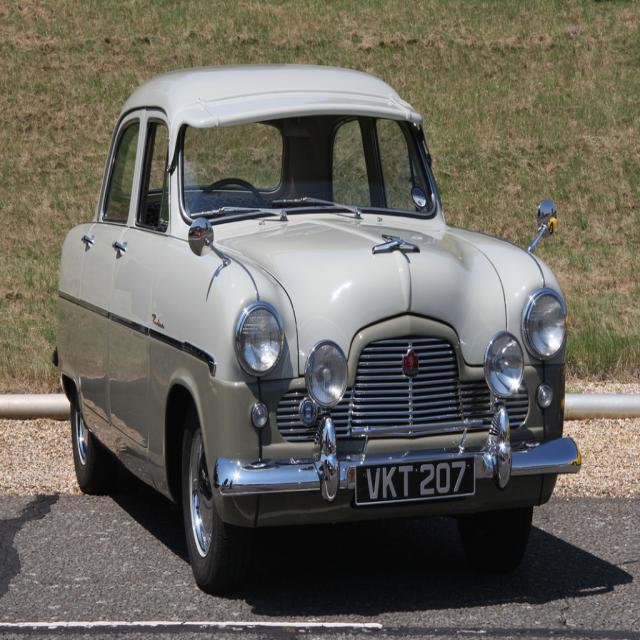car: (55, 61, 579, 581)
